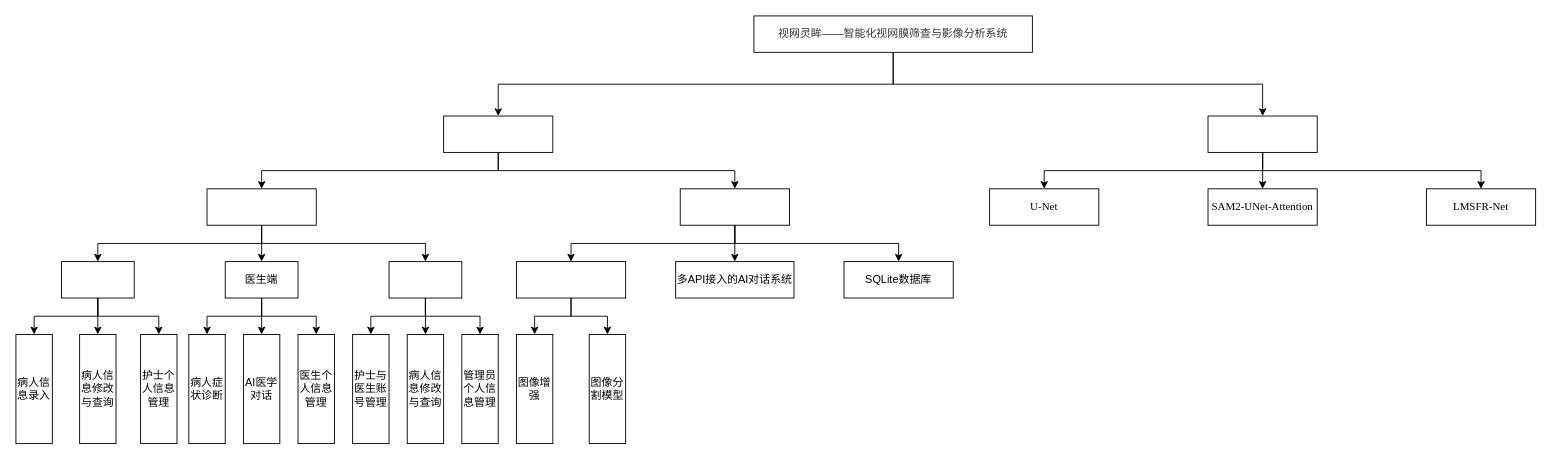
Image size: 1552x460. Some labels were removed from this diagram. Each missing label, with the centre of its shape:
云服务器部署模型: the point at 571,279
前端: the point at 261,206
后端: the point at 734,206
护士端: the point at 97,279
神经网络模型: the point at 1262,133
管理员端: the point at 425,279
系统功能架构: the point at 498,133
